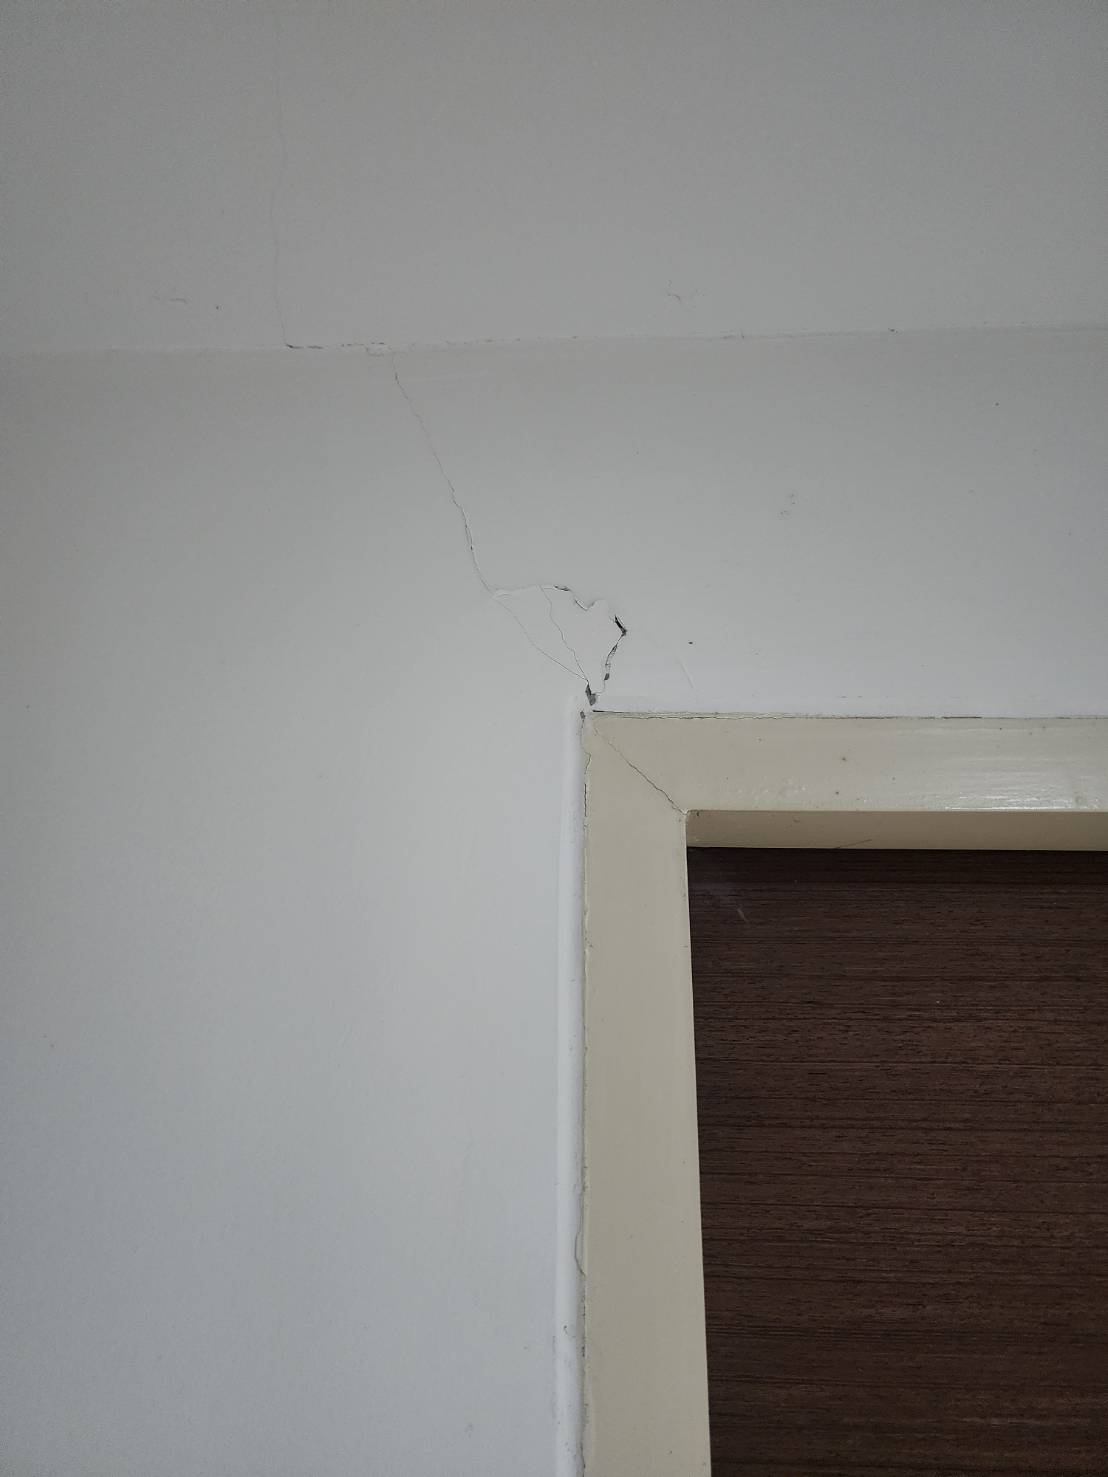Low: (222, 154, 720, 757)
